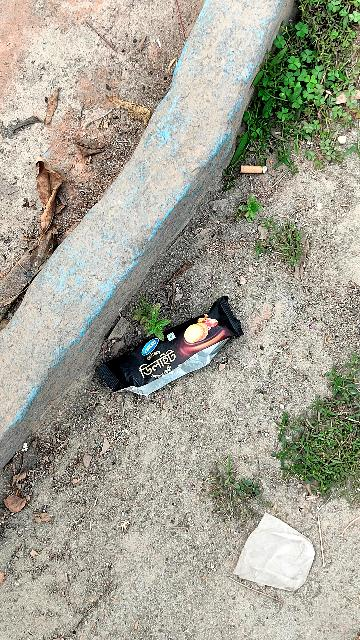packet: (93, 315, 247, 390)
